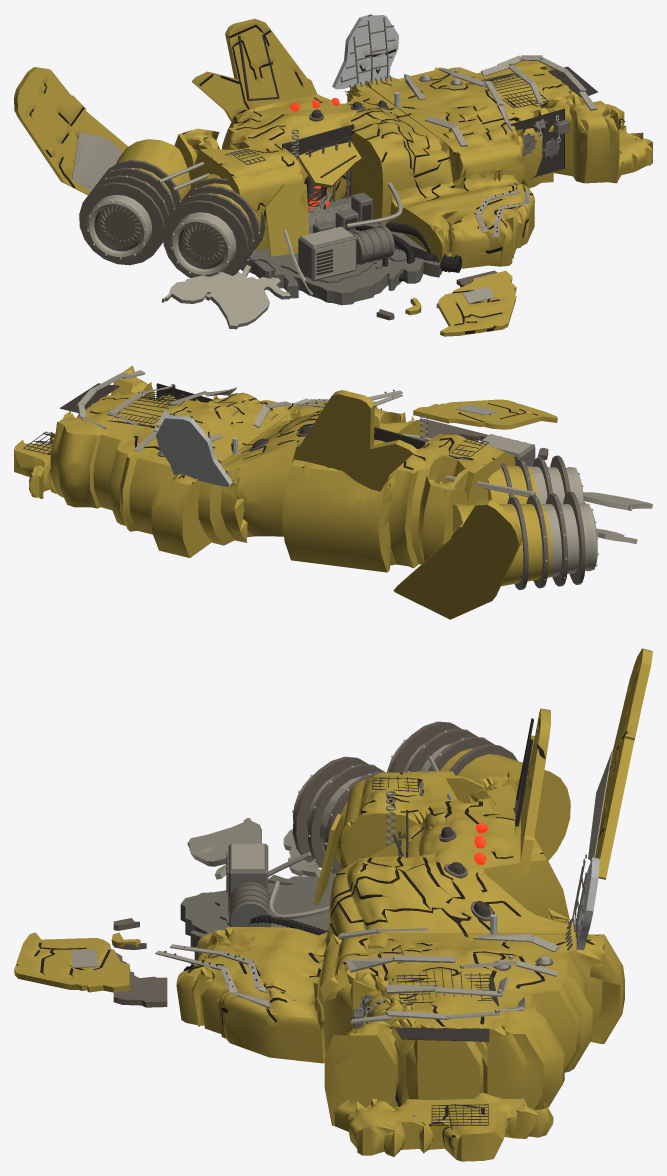
The model's file is crash-site-spaceship.glb.
3 renders of one model, top to bottom at view 1: azimuth 30°, elevation 25°; view 2: azimuth 150°, elevation 25°; view 3: azimuth 270°, elevation 25°, orthographic. The views are drawn at different scales.
Visible parts, largest first — view 1: body; view 2: body; view 3: body.
Part boxes in pixels (left/top/right/bottom): body: left=14, top=14, right=652, bottom=336; body: left=14, top=365, right=652, bottom=619; body: left=14, top=648, right=652, bottom=1161.
Bounding box in the file's own units: 16.38 × 4.97 × 12.77.
